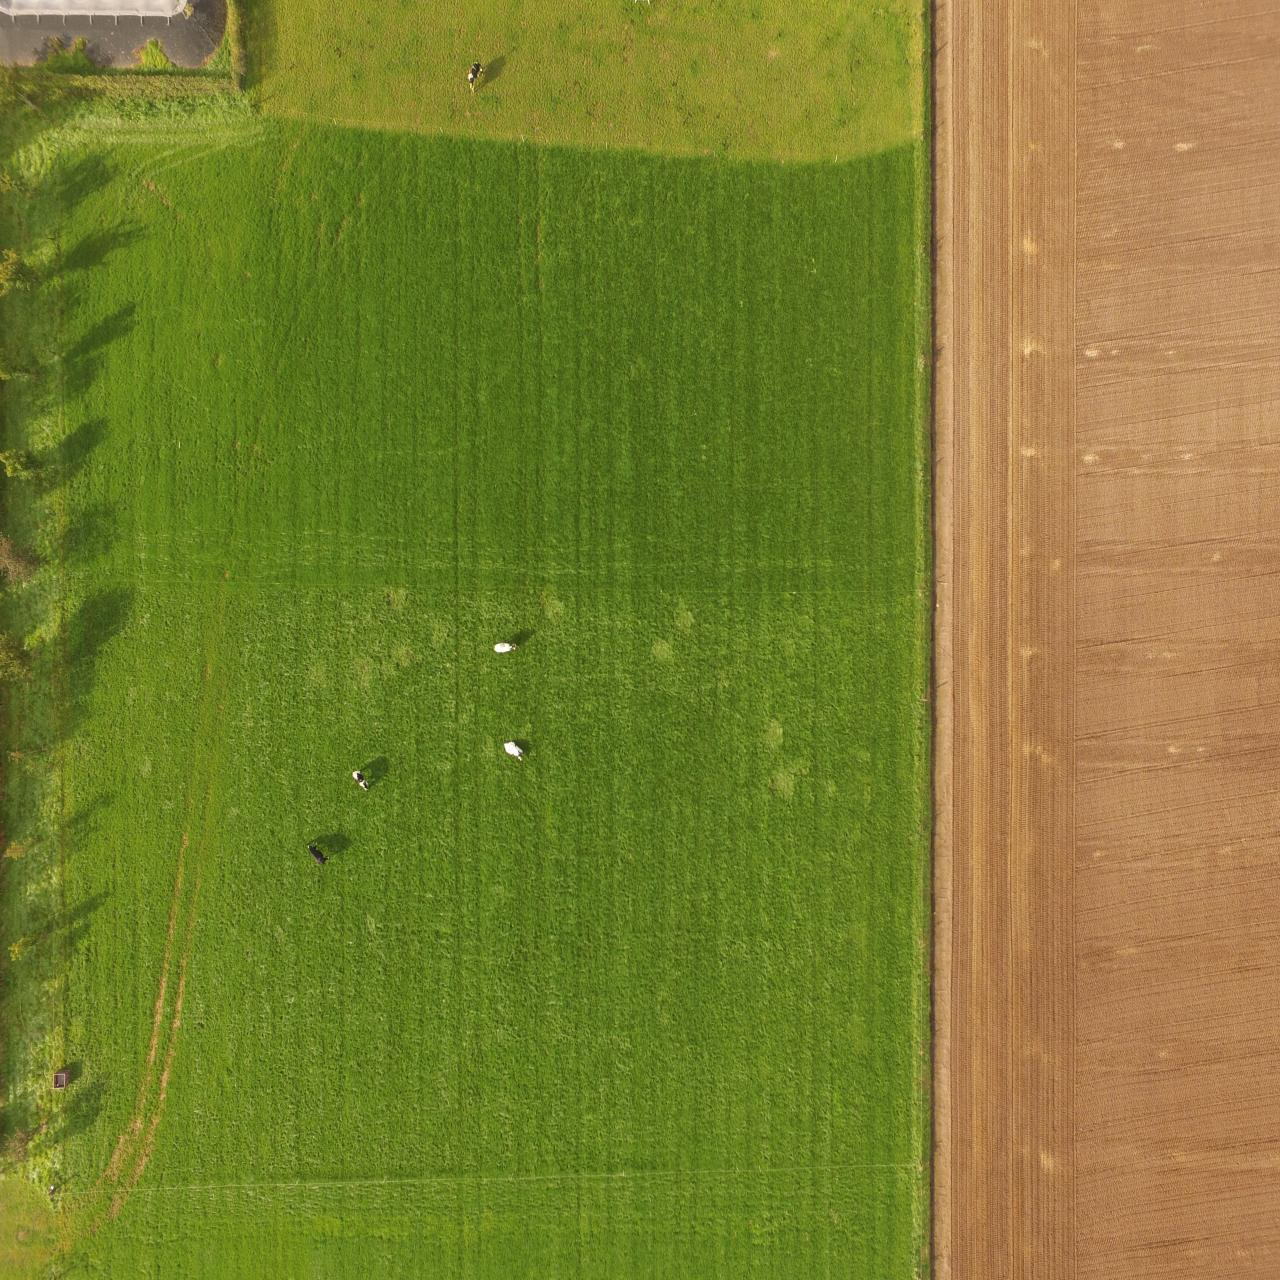cow: (345, 760, 375, 803), (499, 730, 527, 771), (464, 52, 484, 100), (305, 829, 328, 867), (484, 635, 517, 660)
